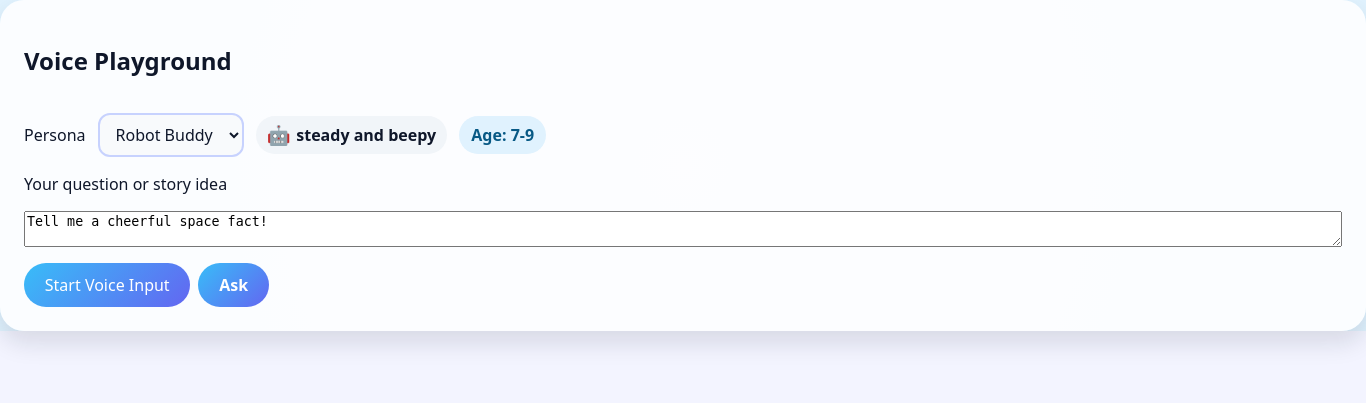
Test: VoiceBar voice capture › starts supported voice capture and shows the stop control
Click the button "Start Voice Input".
click(107, 285)  # box [24, 263, 190, 307]
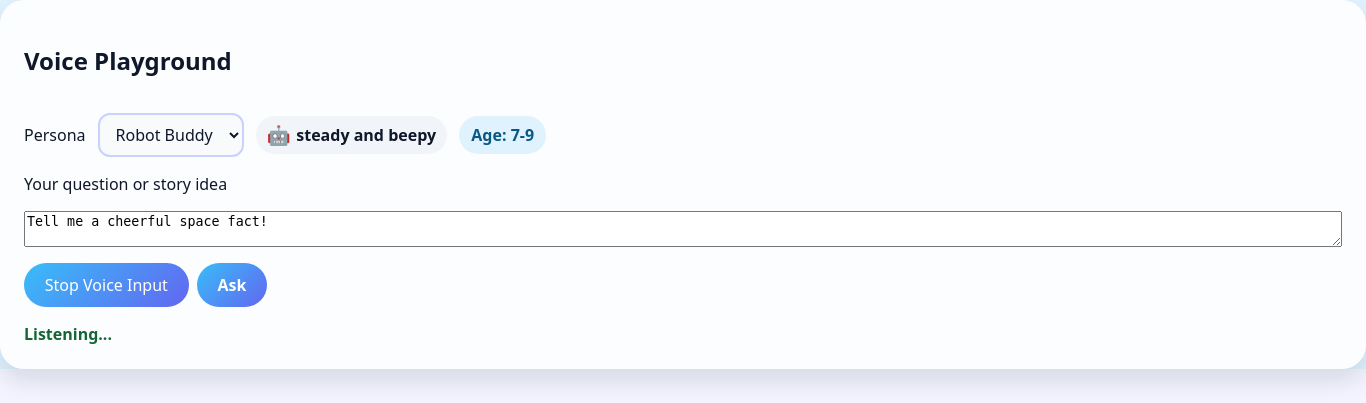
Now the button "Stop Voice Input" is shown, box [24, 263, 189, 307]
